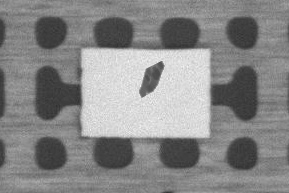DIE_INK: (204, 39, 249, 67)
